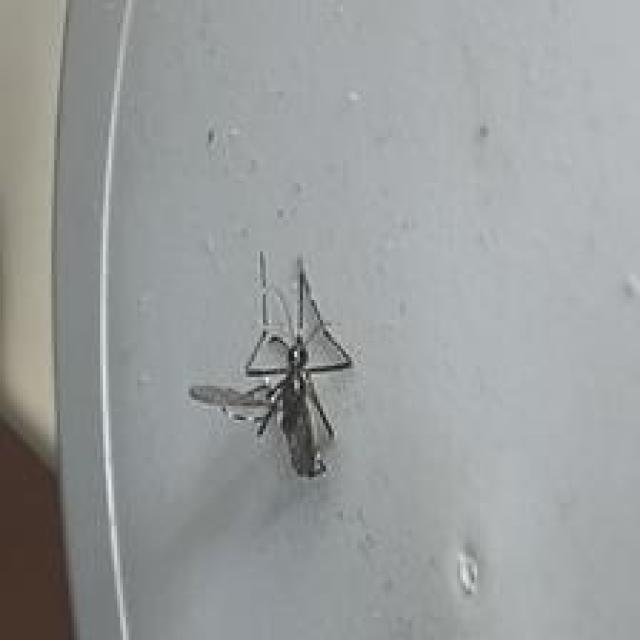Aedes albopictus: (189, 250, 354, 479)
